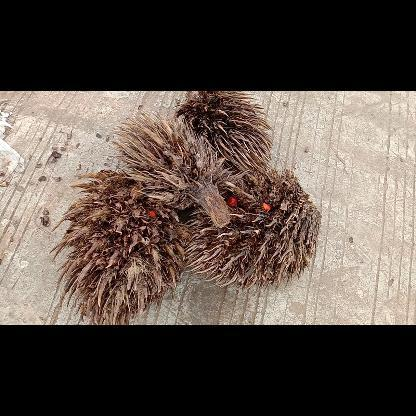Janjang kosong: (50, 168, 186, 324), (184, 168, 322, 290), (104, 110, 232, 226), (175, 91, 271, 175)
